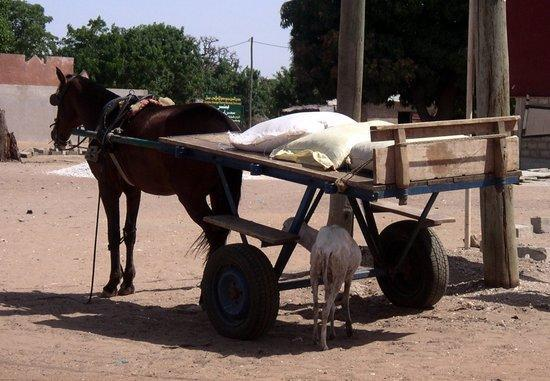horse: (45, 64, 253, 315)
